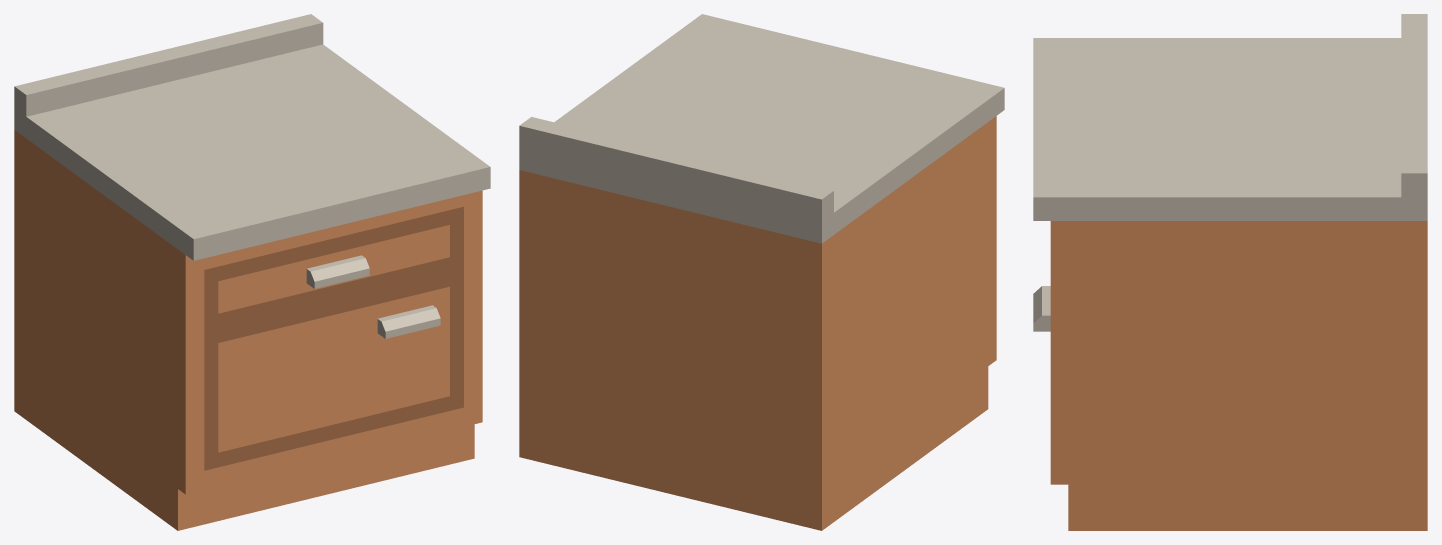
The model's file is kitchenCabinetDrawer.glb.
The picture shows the model from 3 angles, left to right: view 1: azimuth 30°, elevation 25°; view 2: azimuth 150°, elevation 25°; view 3: azimuth 270°, elevation 25°; orthographic projection. The views are drawn at different scales.
Parts seen in each view (by area): view 1: kitchenCabinetDrawer; view 2: kitchenCabinetDrawer; view 3: kitchenCabinetDrawer.
Part boxes in pixels (<box>): kitchenCabinetDrawer: <box>14,14,490,530</box>; kitchenCabinetDrawer: <box>519,14,1004,530</box>; kitchenCabinetDrawer: <box>1033,14,1427,530</box>.
Bounding box in the file's own units: 0.86 × 0.9 × 0.9.
